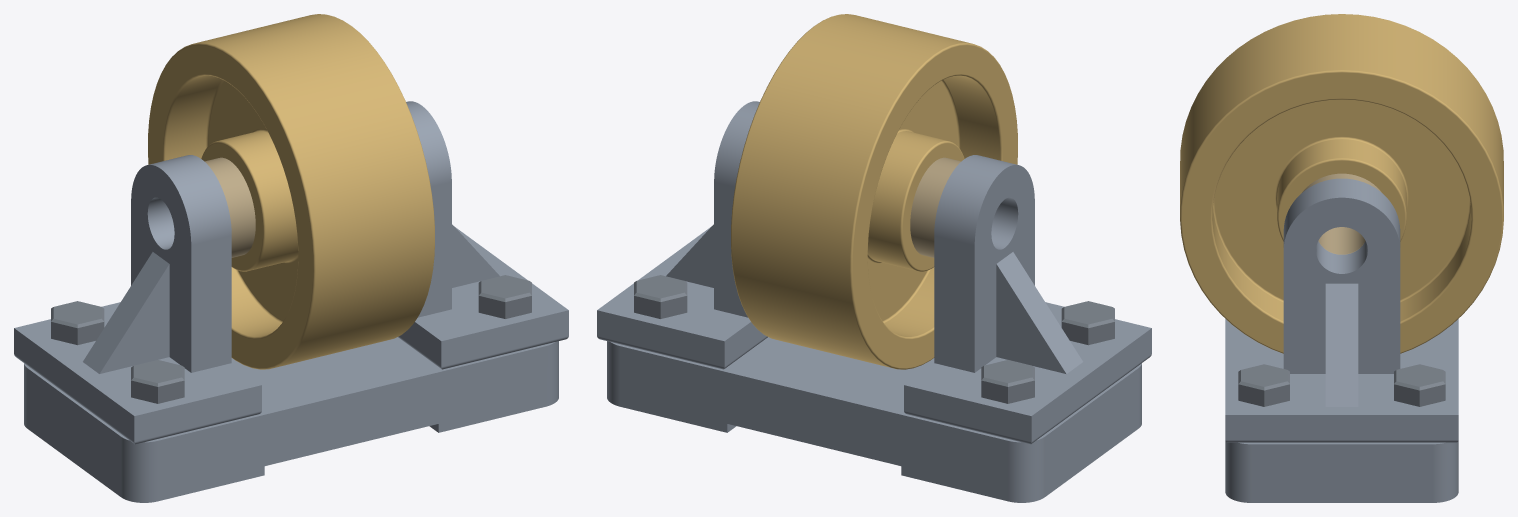
Rendered from step_21.glb.
3 views of the same model, side by side, from view 1: azimuth 30°, elevation 25°; view 2: azimuth 150°, elevation 25°; view 3: azimuth 270°, elevation 25° (orthographic). The views are drawn at different scales.
Parts seen in each view (by area): view 1: part__roller, part__base, part__bracket (left), part__bracket (right), part__bush (left), part__hex bolt 3, part__hex bolt 1, part__hex bolt 4; view 2: part__roller, part__base, part__bracket (left), part__bracket (right), part__bush (left), part__hex bolt 4, part__hex bolt 2, part__hex bolt 3; view 3: part__roller, part__bracket (right), part__base, part__hex bolt 1, part__hex bolt 2, part__bush (right).
Boxes of the visible parts, x1=… form: part__roller: x1=148, y1=14, x2=434, y2=369; part__base: x1=24, y1=337, x2=558, y2=502; part__bracket (left): x1=14, y1=155, x2=261, y2=444; part__bracket (right): x1=398, y1=101, x2=568, y2=369; part__bush (left): x1=204, y1=157, x2=255, y2=257; part__hex bolt 3: x1=131, y1=360, x2=184, y2=403; part__hex bolt 1: x1=478, y1=275, x2=531, y2=318; part__hex bolt 4: x1=51, y1=301, x2=104, y2=345; part__roller: x1=731, y1=14, x2=1017, y2=369; part__base: x1=607, y1=337, x2=1141, y2=502; part__bracket (left): x1=904, y1=155, x2=1151, y2=444; part__bracket (right): x1=597, y1=101, x2=767, y2=369; part__bush (left): x1=910, y1=157, x2=961, y2=257; part__hex bolt 4: x1=981, y1=360, x2=1034, y2=403; part__hex bolt 2: x1=634, y1=275, x2=687, y2=318; part__hex bolt 3: x1=1061, y1=301, x2=1114, y2=345; part__roller: x1=1180, y1=14, x2=1503, y2=353; part__bracket (right): x1=1225, y1=178, x2=1458, y2=442; part__base: x1=1225, y1=319, x2=1458, y2=502; part__hex bolt 1: x1=1238, y1=364, x2=1289, y2=406; part__hex bolt 2: x1=1394, y1=364, x2=1445, y2=406; part__bush (right): x1=1302, y1=173, x2=1381, y2=254.
Bounding box in the file's own units: 150 × 122 × 99.97.
